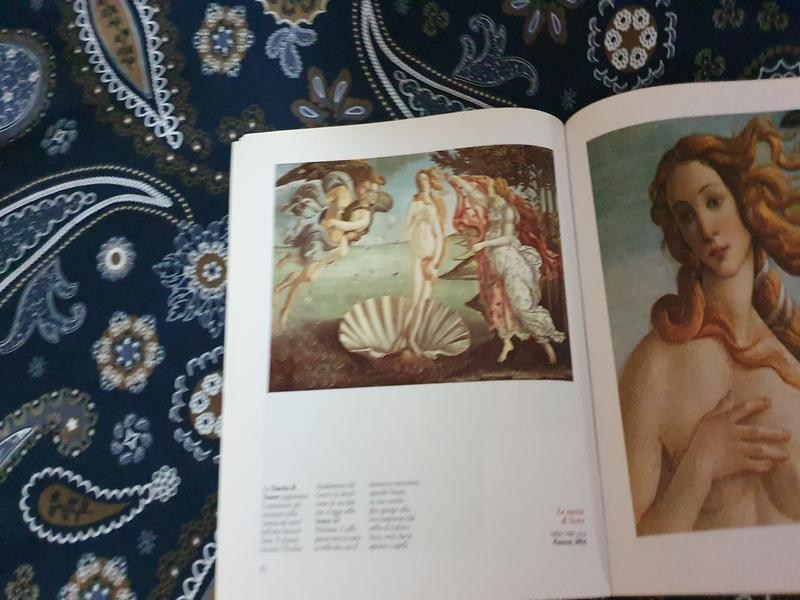Venere: (267, 153, 576, 394)
